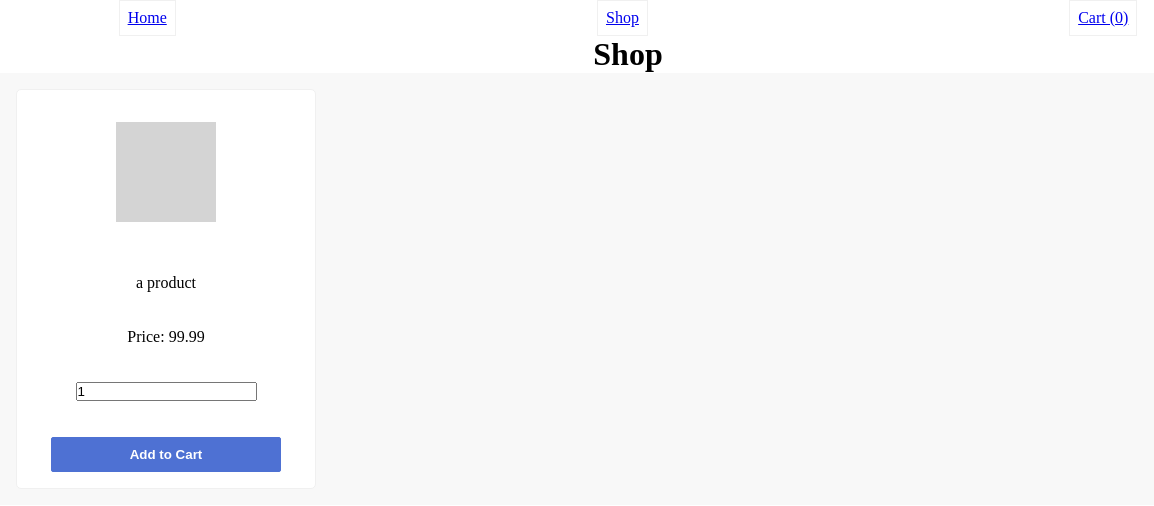
Scenario: Product component › when clicking the Add to Cart button › updates the cart navigation menu quantity
Check: the link "Cart (0)" is shown, box [1069,0,1137,36]
Click the button "Add to Cart" at (166, 454), box [51,437,281,472]
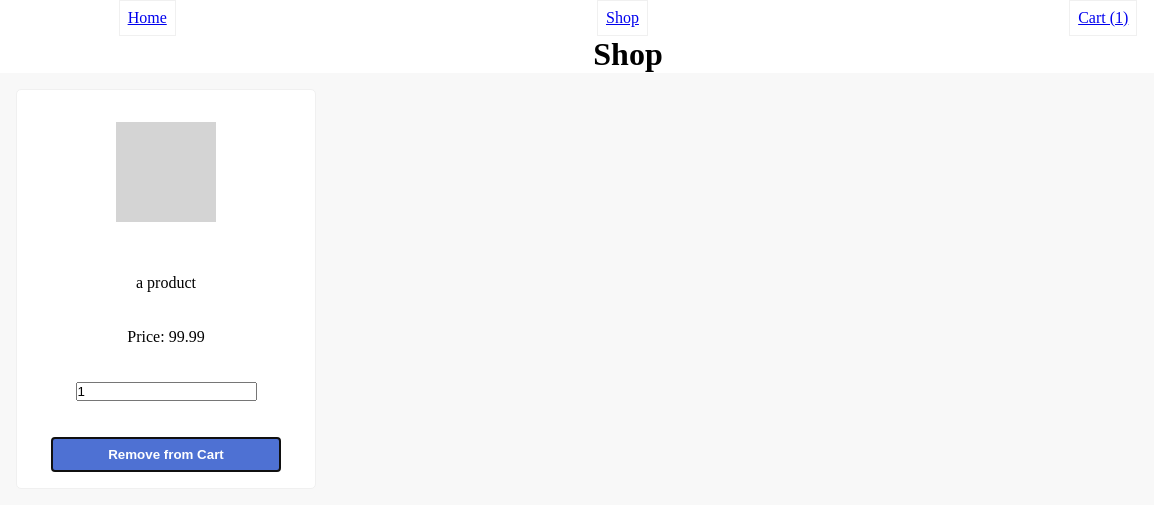
Check: the link named "Cart (0)" reads "Cart (1)", box [1069,0,1137,36]
